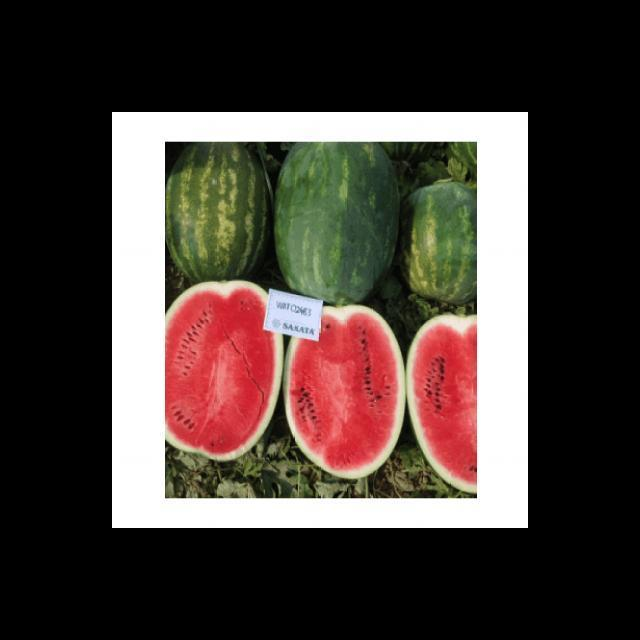watermelon: (165, 279, 285, 461), (283, 305, 406, 480), (273, 142, 402, 304), (164, 142, 274, 280), (406, 314, 477, 494), (395, 180, 477, 303), (378, 142, 444, 162), (444, 142, 476, 175)
